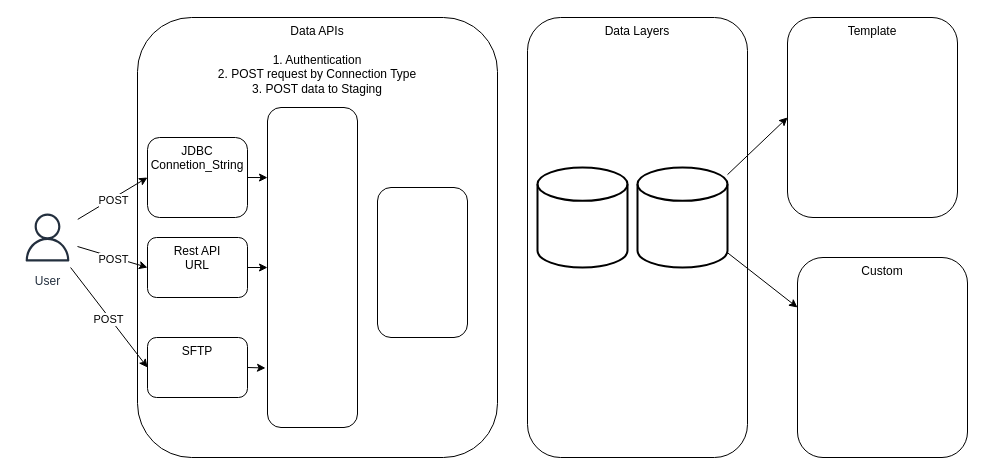
The diagram is 985 pixels wide and 475 high, and some of its shapes have lost their labels. The centre of each missing label's shape, as x and y in pixels:
"Authentication" belongs at (x=312, y=267).
"Mapping" belongs at (x=422, y=262).
"Multi-Tenant (OLTP)" belongs at (x=582, y=217).
"OLAP" belongs at (x=682, y=217).
